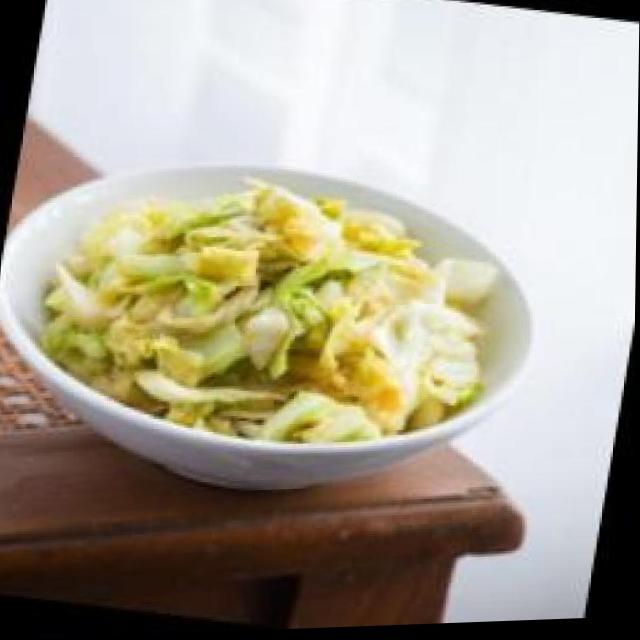chinese_cabbage: (40, 155, 498, 469)
